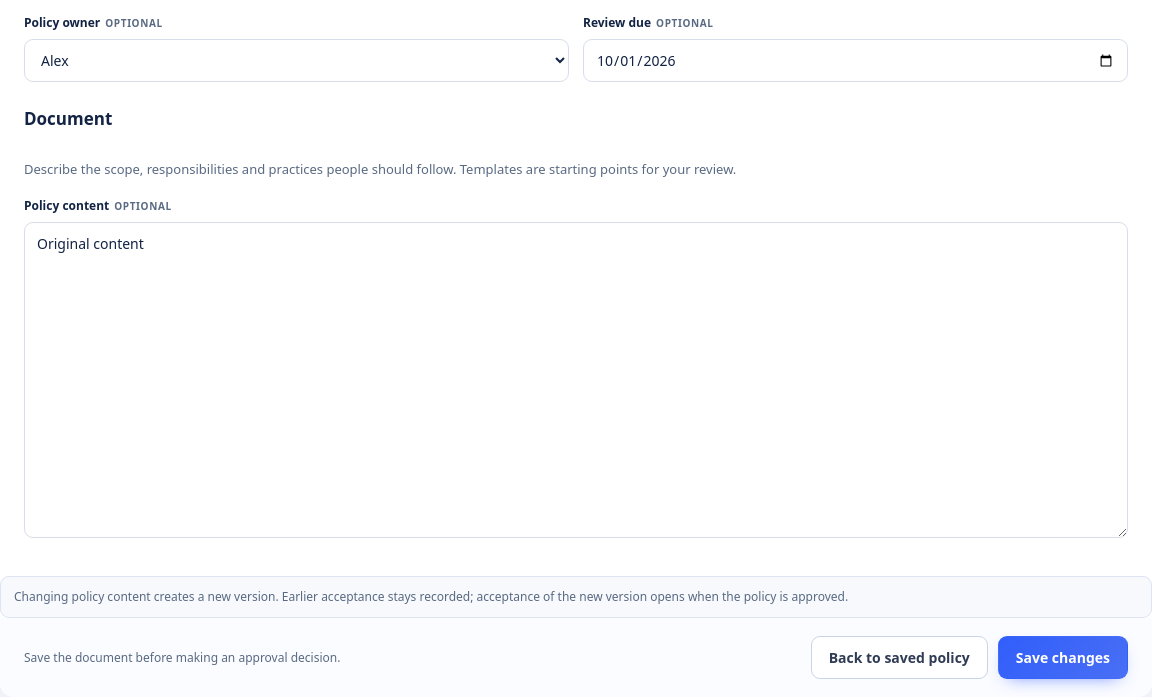
it: shows a delayed save failure even when the user keeps typing
(page scrolled)
Click the button "Save changes" at (1063, 658), box [998, 636, 1128, 679]
(page scrolled)
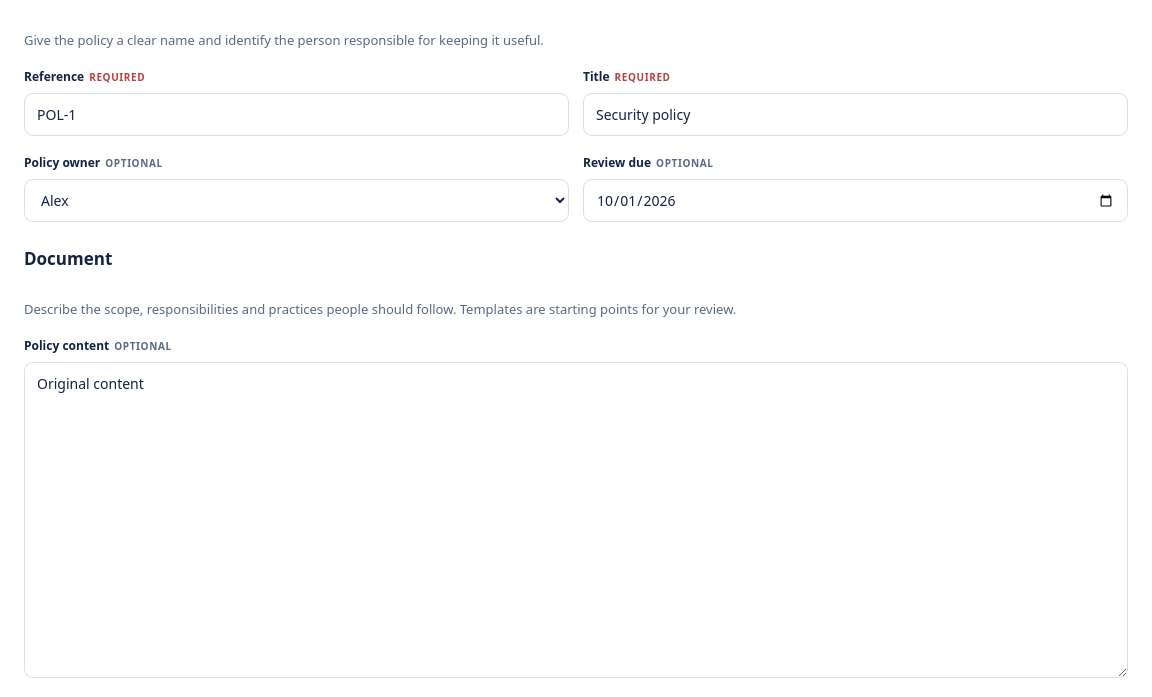
Type " additional draft" into the field labelled "Title" at (856, 114), box [583, 93, 1128, 136]
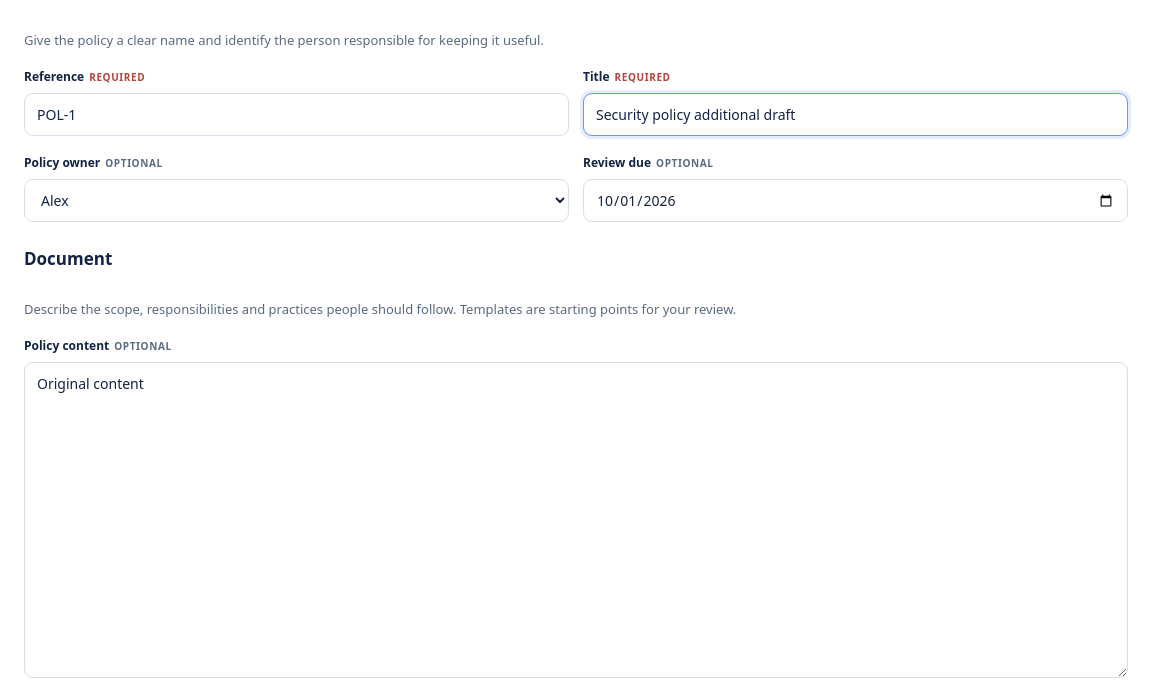
Expected: the field labelled "Title" holds "Security policy additional draft", [583, 93, 1128, 136]
